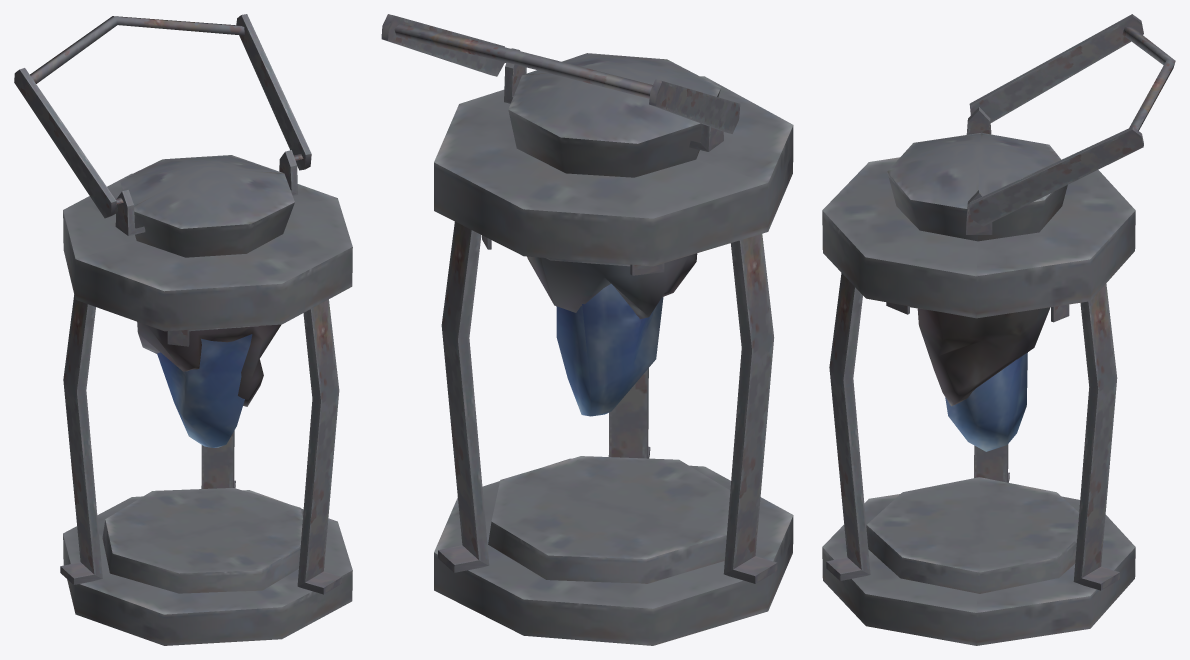
The model's file is Homeworld_Exterior_Cyjy_Lamp_Light_Minerlight_01_Vo.fbx.
3 views of the same model, side by side, from view 1: azimuth 30°, elevation 25°; view 2: azimuth 150°, elevation 25°; view 3: azimuth 270°, elevation 25° (orthographic). The views are drawn at different scales.
Parts seen in each view (by area): view 1: Area_Cyjy_Light_Common_Lantern_01_Vo; view 2: Area_Cyjy_Light_Common_Lantern_01_Vo; view 3: Area_Cyjy_Light_Common_Lantern_01_Vo.
Part boxes in pixels (bbox=[...]): Area_Cyjy_Light_Common_Lantern_01_Vo: bbox=[14, 14, 352, 645]; Area_Cyjy_Light_Common_Lantern_01_Vo: bbox=[381, 14, 793, 645]; Area_Cyjy_Light_Common_Lantern_01_Vo: bbox=[822, 14, 1175, 645].
Bounding box in the file's own units: 0.3395 × 0.6159 × 0.3781.
2 materials, 2 textured.
